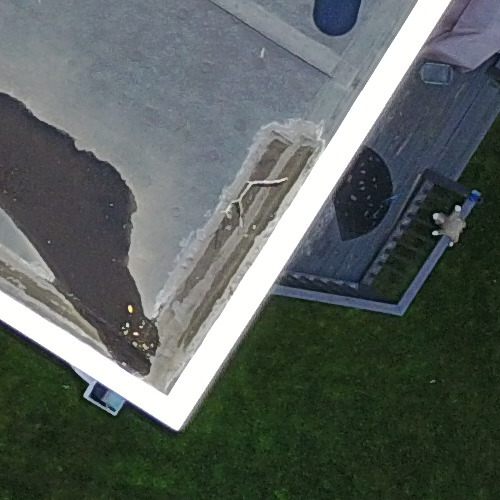container: (411, 51, 463, 92)
porch: (276, 1, 499, 331)
